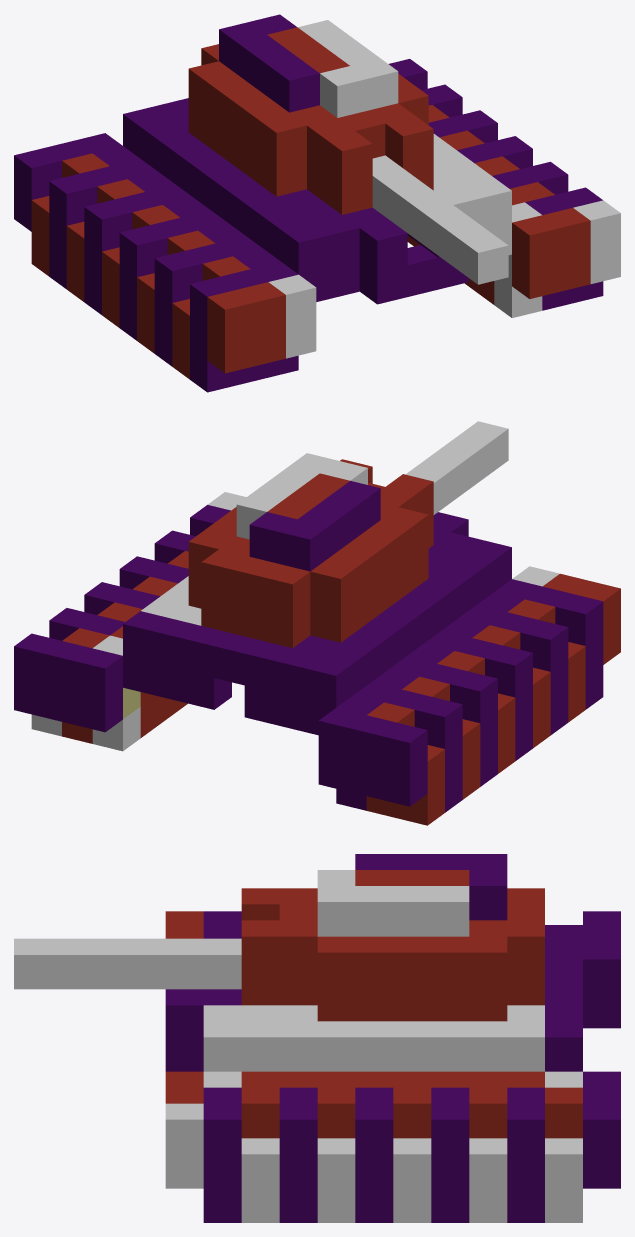
File: basic_red_tank.glb
3 views of the same model, one above another, from view 1: azimuth 30°, elevation 25°; view 2: azimuth 150°, elevation 25°; view 3: azimuth 270°, elevation 25° (orthographic). The views are drawn at different scales.
Visible parts, largest first — view 1: Object_2.014; view 2: Object_2.014; view 3: Object_2.014.
Part boxes in pixels (x1,y1,x2,y2): Object_2.014: (14,14,620,392); Object_2.014: (14,421,620,825); Object_2.014: (14,854,620,1222).
Size of the model in its own units: 13 by 7 by 16.
1 material, 1 textured.
